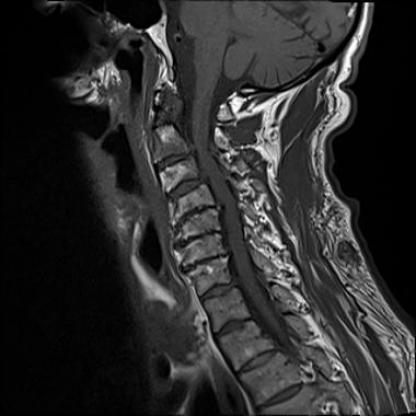Disc Bulgerotation: (181, 250, 227, 276), (164, 178, 207, 198), (171, 206, 218, 223), (151, 153, 194, 171), (171, 231, 225, 245)
Osteophytesrotation: (181, 249, 227, 278), (164, 178, 207, 198), (171, 206, 218, 223), (170, 231, 225, 245), (150, 154, 194, 171)
